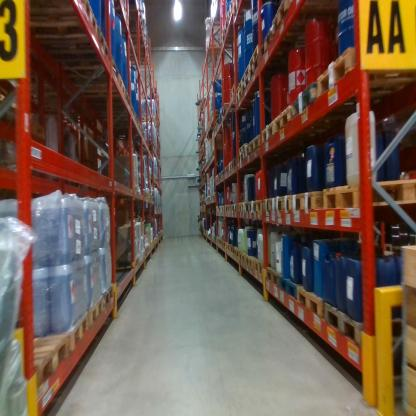pallet: (318, 34, 416, 115), (293, 76, 395, 126), (322, 172, 416, 218), (10, 1, 99, 41), (16, 338, 66, 395), (274, 101, 338, 139), (271, 1, 338, 37), (50, 27, 110, 66), (324, 300, 363, 350), (45, 310, 89, 354), (57, 57, 120, 86), (256, 26, 305, 63), (72, 72, 125, 100), (249, 56, 296, 83), (292, 180, 324, 214), (296, 282, 323, 318), (93, 87, 132, 110), (83, 294, 103, 332), (116, 14, 147, 36), (280, 270, 298, 302), (210, 108, 220, 163), (260, 120, 275, 152), (125, 48, 150, 67), (140, 111, 161, 131), (127, 33, 148, 53), (265, 266, 281, 292), (276, 192, 293, 215), (106, 105, 136, 118), (220, 103, 246, 118), (227, 82, 243, 104), (226, 21, 248, 35), (390, 241, 409, 257), (233, 1, 252, 17), (114, 258, 139, 270), (240, 74, 252, 99), (263, 194, 277, 215), (249, 44, 260, 70), (204, 42, 226, 55), (102, 284, 114, 307), (249, 132, 260, 156), (254, 258, 266, 279), (237, 145, 248, 167), (377, 242, 393, 257), (222, 35, 242, 47), (241, 63, 250, 88), (252, 198, 265, 215), (222, 14, 234, 32), (245, 253, 256, 271), (125, 113, 139, 127), (237, 139, 250, 154), (235, 85, 244, 104), (243, 199, 253, 215), (236, 249, 245, 265), (218, 28, 227, 42), (212, 149, 223, 159), (238, 199, 245, 214), (235, 76, 241, 93), (227, 2, 234, 16), (224, 203, 231, 216), (233, 245, 239, 260), (142, 246, 150, 256), (228, 160, 233, 176), (233, 201, 238, 216), (232, 156, 237, 171), (138, 122, 143, 136), (211, 191, 217, 202), (220, 167, 225, 180), (224, 164, 229, 176), (230, 201, 234, 215), (219, 204, 224, 215), (222, 238, 225, 254), (229, 242, 233, 253), (226, 239, 229, 253), (218, 172, 221, 183), (216, 174, 218, 184)
